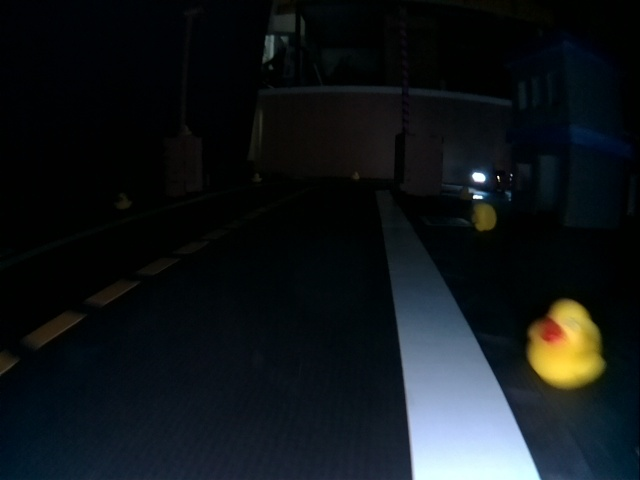Duckie: (527, 299, 604, 385), (471, 203, 496, 230), (113, 194, 132, 208)
